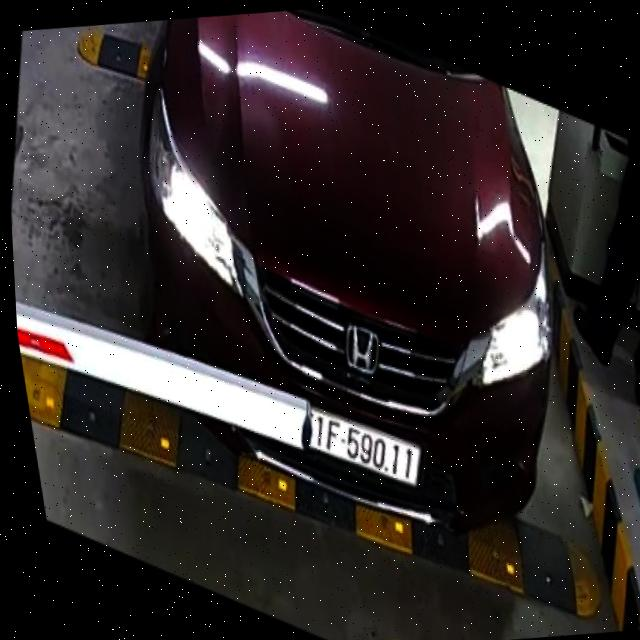car: (99, 3, 599, 573)
plate: (277, 386, 430, 506)
